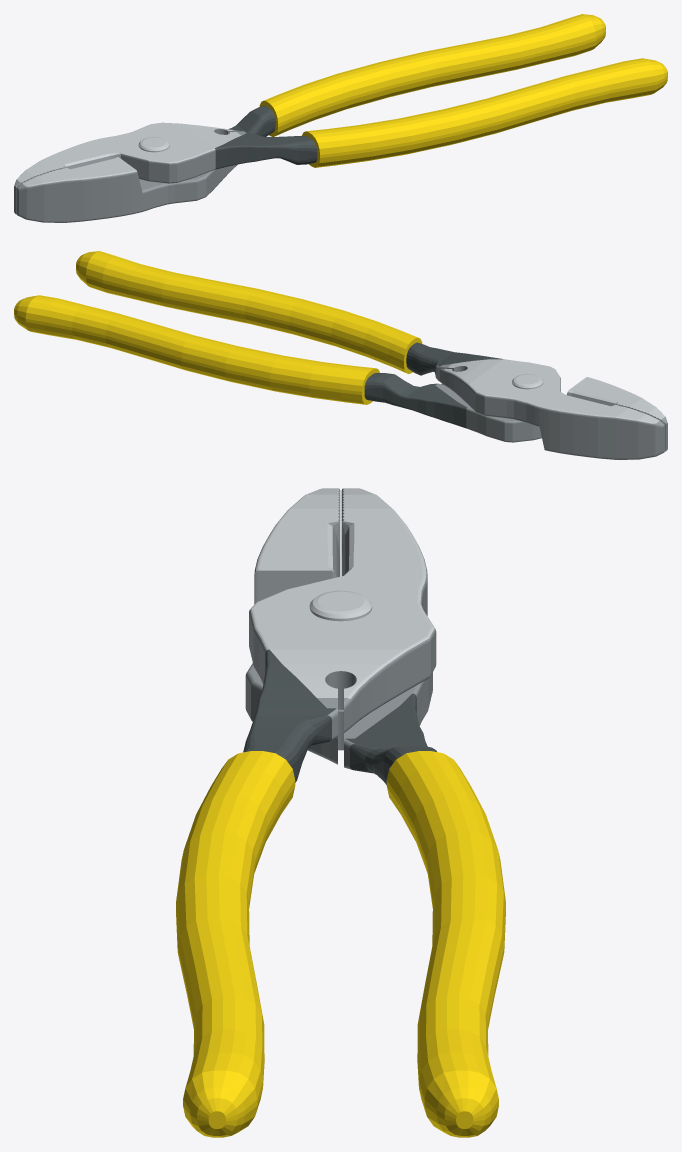
3 views of the same model, one above another, from view 1: azimuth 30°, elevation 25°; view 2: azimuth 150°, elevation 25°; view 3: azimuth 270°, elevation 25° (orthographic). The views are drawn at different scales.
Visible parts, largest first — view 1: lower_dipped_grip, upper_dipped_grip, upper_jaw_lower_tang, lower_jaw_upper_tang, pivot_rivet; view 2: upper_dipped_grip, upper_jaw_lower_tang, lower_dipped_grip, lower_jaw_upper_tang, pivot_rivet; view 3: upper_jaw_lower_tang, lower_dipped_grip, upper_dipped_grip, lower_jaw_upper_tang, pivot_rivet.
Boxes of the visible parts, bbox=[...] form: lower_dipped_grip: bbox=[302, 58, 667, 167]; upper_dipped_grip: bbox=[259, 14, 605, 136]; upper_jaw_lower_tang: bbox=[14, 122, 317, 214]; lower_jaw_upper_tang: bbox=[16, 105, 275, 222]; pivot_rivet: bbox=[138, 137, 169, 152]; upper_dipped_grip: bbox=[14, 295, 379, 404]; upper_jaw_lower_tang: bbox=[406, 342, 665, 459]; lower_dipped_grip: bbox=[76, 251, 422, 373]; lower_jaw_upper_tang: bbox=[364, 373, 667, 451]; pivot_rivet: bbox=[512, 374, 543, 389]; upper_jaw_lower_tang: bbox=[243, 488, 436, 782]; lower_dipped_grip: bbox=[176, 751, 295, 1137]; upper_dipped_grip: bbox=[386, 751, 505, 1137]; lower_jaw_upper_tang: bbox=[245, 488, 436, 784]; pivot_rivet: bbox=[309, 590, 372, 621].
Size of the model in its own units: 0.24 by 0.0184 by 0.0555.
